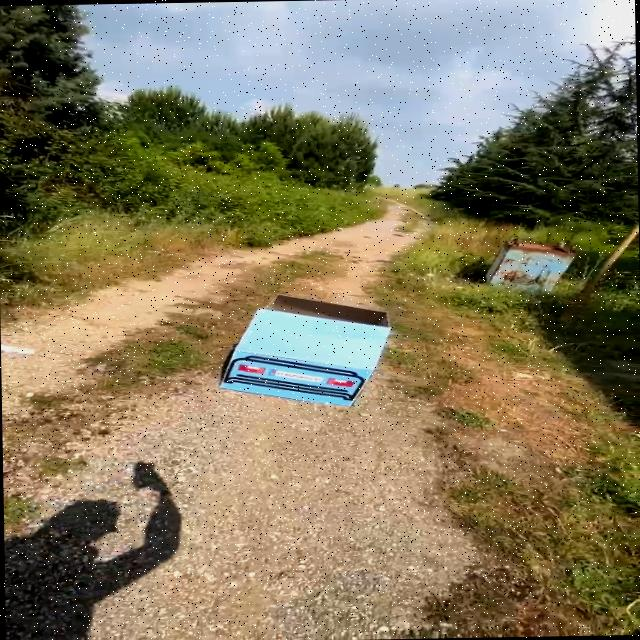blue_car: (204, 273, 407, 416)
